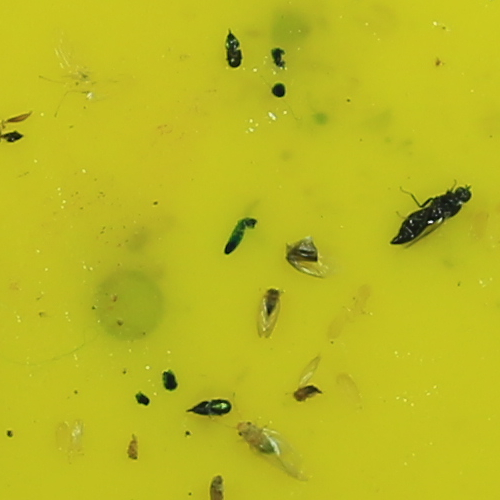psylla: (235, 420, 275, 456), (257, 289, 286, 322), (288, 385, 324, 403)
wasp: (186, 395, 235, 417), (221, 26, 242, 72)
